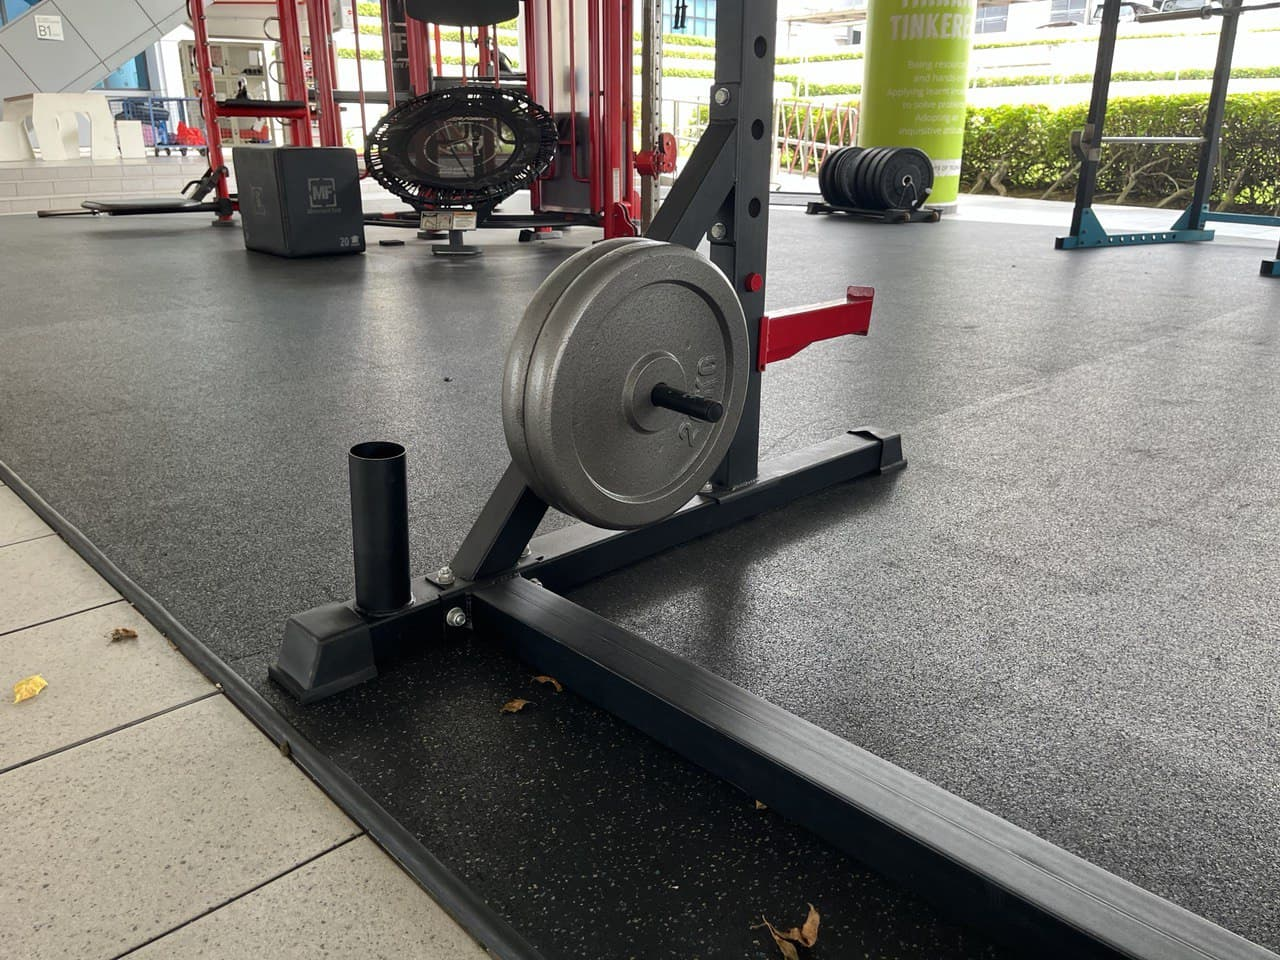weights: (499, 234, 762, 532), (812, 137, 940, 229)
